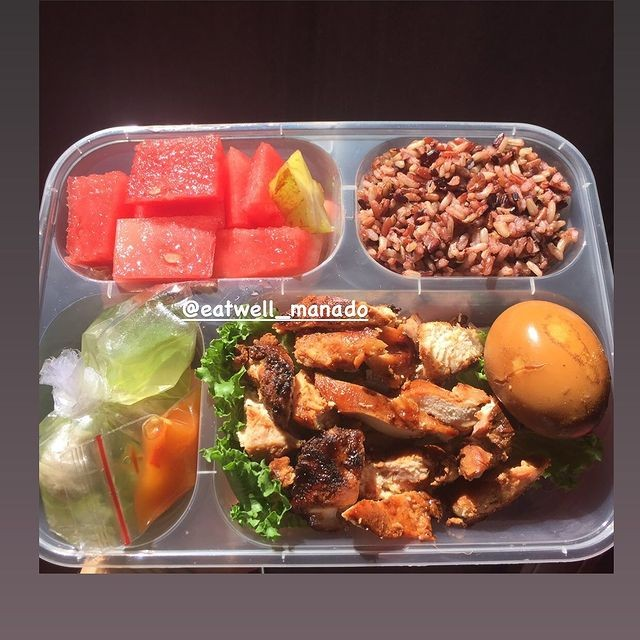Nasi Merah: (354, 145, 574, 268)
